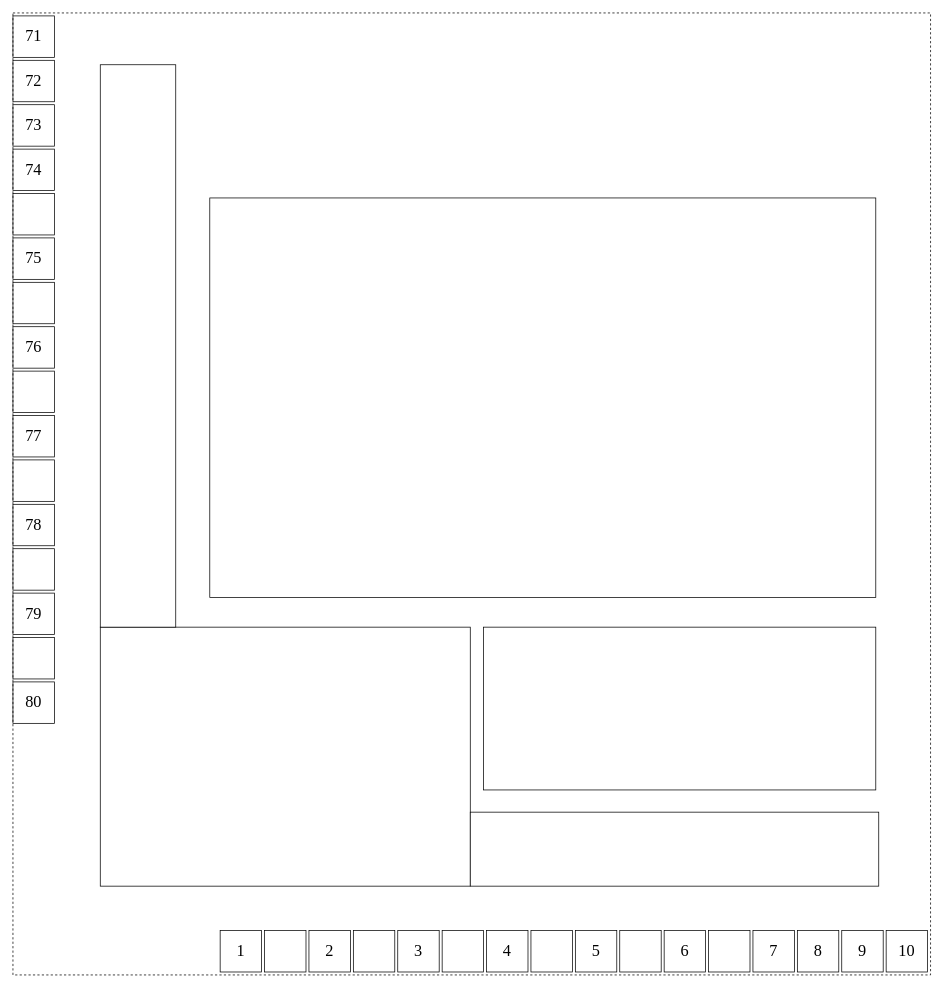
Some shapes in this 944 by 989 pixel diagram are drawn without their labels. The shapes that lost their labels are listed below. From the top down, each one's centre as x and y in pixels, then its label:
At [542,397]: "乗算器 針測定用".
At [679,708]: "DEEP-N TEG 針測定用".
At [285,756]: "乗算器 PCB測定用".
